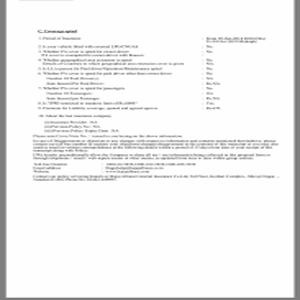text: (34, 28, 267, 108), (29, 114, 282, 179)
